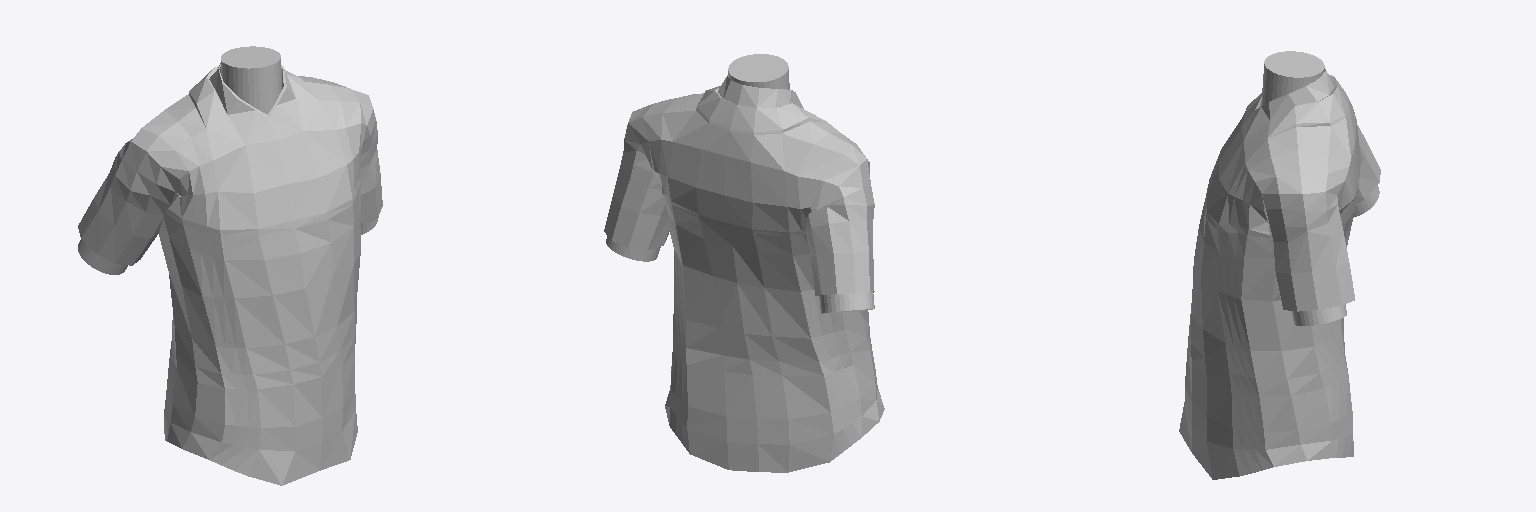
File: mapt.obj
The picture shows the model from 3 angles: view 1: azimuth 30°, elevation 25°; view 2: azimuth 150°, elevation 25°; view 3: azimuth 270°, elevation 25°; orthographic projection.
Visible parts, largest first — view 1: male01_mesh1_002_mesh1_geometry_male_02_1noCullingID_male_02_1no, group3_group2_pasted__pCylinder1, group3_group2_pCylinder1; view 2: male01_mesh1_002_mesh1_geometry_male_02_1noCullingID_male_02_1no, group3_group2_pasted__pCylinder1, group3_group2_pCylinder1, group3_group2_pasted__pasted__pCylinder1; view 3: male01_mesh1_002_mesh1_geometry_male_02_1noCullingID_male_02_1no, group3_group2_pasted__pCylinder1, group3_group2_pasted__pasted__pCylinder1.
Boxes of the visible parts, x1=… form: male01_mesh1_002_mesh1_geometry_male_02_1noCullingID_male_02_1no: x1=78, y1=63, x2=382, y2=485; group3_group2_pasted__pCylinder1: x1=221, y1=46, x2=281, y2=114; group3_group2_pCylinder1: x1=78, y1=239, x2=127, y2=274; male01_mesh1_002_mesh1_geometry_male_02_1noCullingID_male_02_1no: x1=604, y1=75, x2=884, y2=472; group3_group2_pasted__pCylinder1: x1=728, y1=54, x2=789, y2=89; group3_group2_pCylinder1: x1=819, y1=292, x2=874, y2=313; group3_group2_pasted__pasted__pCylinder1: x1=606, y1=236, x2=660, y2=261; male01_mesh1_002_mesh1_geometry_male_02_1noCullingID_male_02_1no: x1=1179, y1=69, x2=1380, y2=479; group3_group2_pasted__pCylinder1: x1=1261, y1=51, x2=1324, y2=105; group3_group2_pasted__pasted__pCylinder1: x1=1292, y1=304, x2=1346, y2=325.
Size of the model in its own units: 21.06 by 28.09 by 13.22.